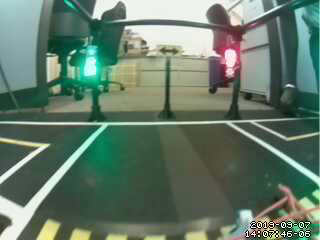Left_Right_sign: (149, 44, 187, 59)
Traffic_light_green: (80, 44, 97, 85)
Traffic_light_red: (218, 48, 239, 81)
